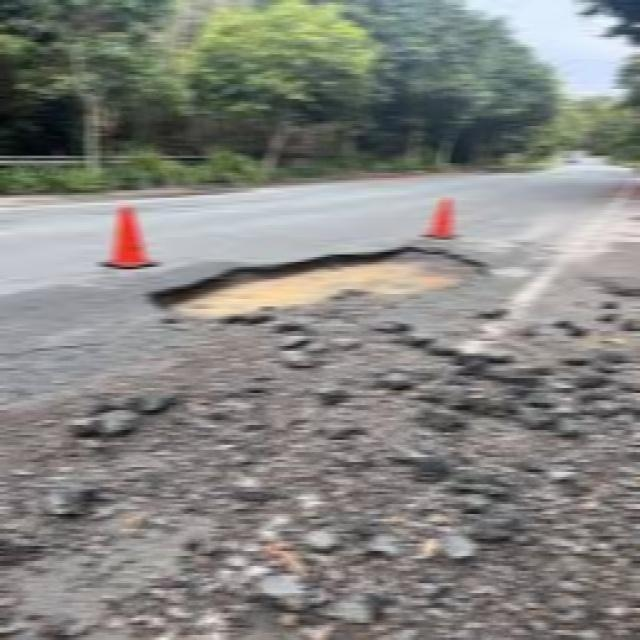Pothole: (146, 240, 486, 336)
